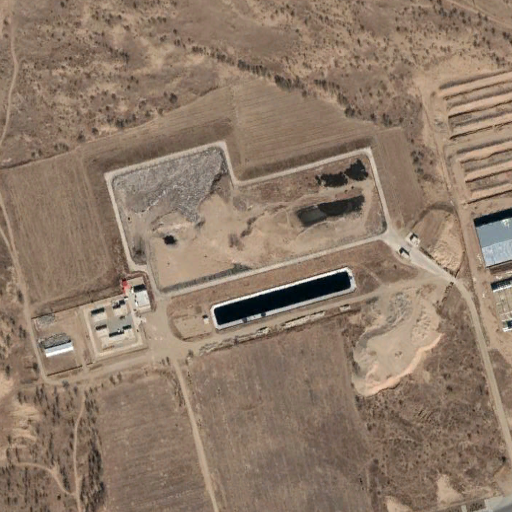lf: (109, 144, 390, 296)
